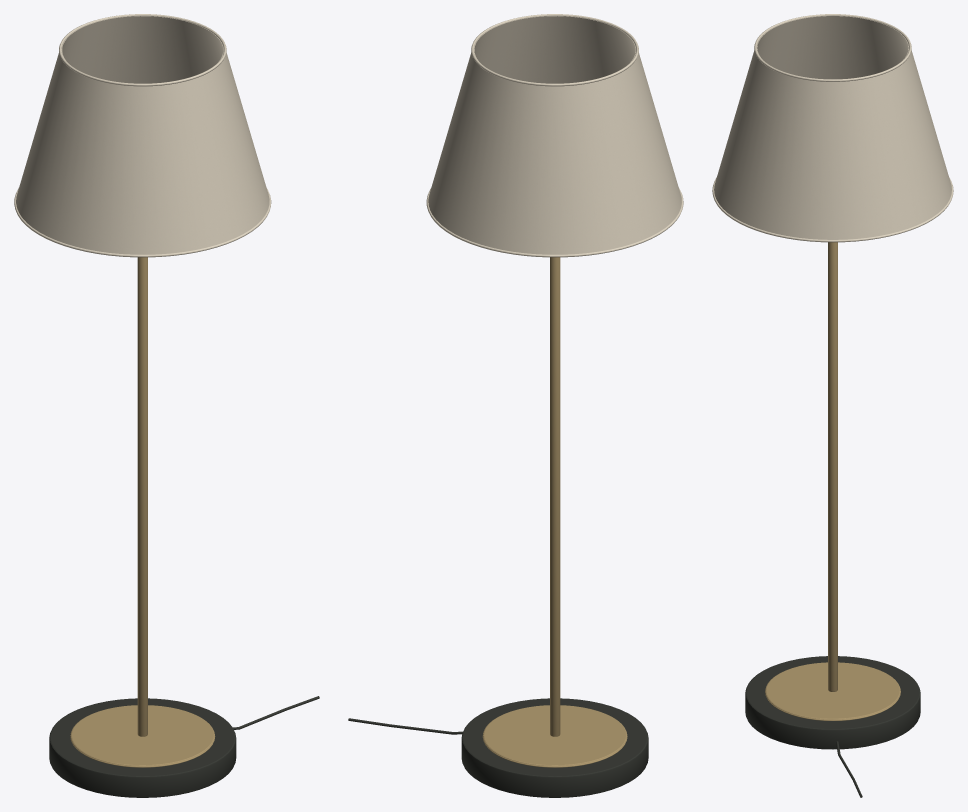
The model's file is cozy-floor-lamp.glb.
The picture shows the model from 3 angles, left to right: view 1: azimuth 30°, elevation 25°; view 2: azimuth 150°, elevation 25°; view 3: azimuth 270°, elevation 25°; orthographic projection. The views are drawn at different scales.
Visible parts, largest first — view 1: cozy-floor-lamp - Cozy natural linen shade.003, cozy-floor-lamp - Cozy aged satin brass.003, cozy-floor-lamp - Cozy warm charcoal metal.003; view 2: cozy-floor-lamp - Cozy natural linen shade.003, cozy-floor-lamp - Cozy aged satin brass.003, cozy-floor-lamp - Cozy warm charcoal metal.003; view 3: cozy-floor-lamp - Cozy natural linen shade.003, cozy-floor-lamp - Cozy aged satin brass.003, cozy-floor-lamp - Cozy warm charcoal metal.003.
Part boxes in pixels (x1,y1,x2,y2): cozy-floor-lamp - Cozy natural linen shade.003: (14, 14, 271, 257); cozy-floor-lamp - Cozy aged satin brass.003: (70, 257, 215, 767); cozy-floor-lamp - Cozy warm charcoal metal.003: (49, 696, 319, 797); cozy-floor-lamp - Cozy natural linen shade.003: (426, 14, 683, 257); cozy-floor-lamp - Cozy aged satin brass.003: (482, 257, 627, 767); cozy-floor-lamp - Cozy warm charcoal metal.003: (348, 698, 648, 797); cozy-floor-lamp - Cozy natural linen shade.003: (712, 14, 953, 242); cozy-floor-lamp - Cozy aged satin brass.003: (765, 242, 900, 720); cozy-floor-lamp - Cozy warm charcoal metal.003: (745, 656, 920, 797).
Size of the model in its own units: 0.7286 by 1.63 by 0.536.
Materials: 4 (1 with a texture image).
